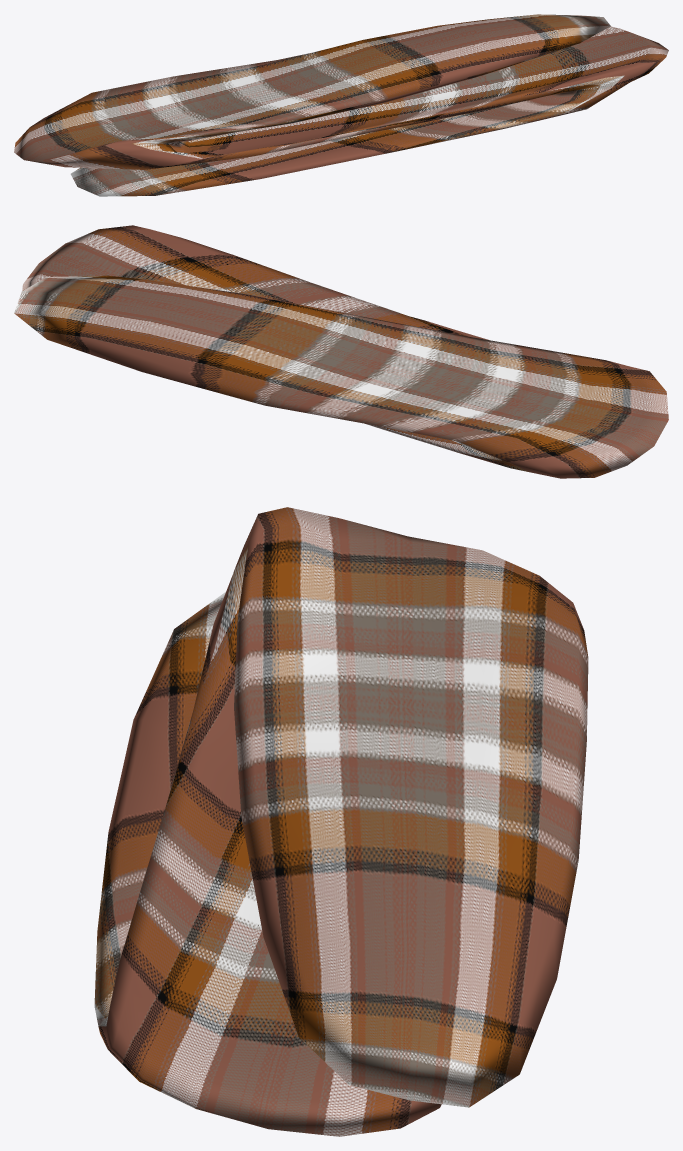
The model's file is scarf.fbx.
3 renders of one model, top to bottom at view 1: azimuth 30°, elevation 25°; view 2: azimuth 150°, elevation 25°; view 3: azimuth 270°, elevation 25°, orthographic. The views are drawn at different scales.
Visible parts, largest first — view 1: Scarf; view 2: Scarf; view 3: Scarf.
Boxes of the visible parts, x1,y1,x2,y2 form: Scarf: (14, 14, 668, 196); Scarf: (14, 225, 668, 478); Scarf: (94, 507, 588, 1136).
Size of the model in its own units: 625 by 43.53 by 223.
